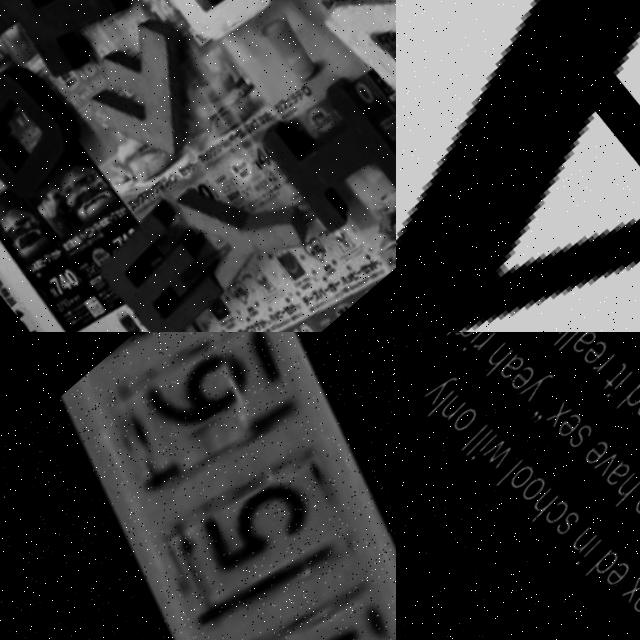1: (242, 599, 391, 640)
5: (181, 449, 341, 607)
6: (115, 332, 279, 482)
A: (396, 0, 640, 332)
F: (64, 10, 233, 187)
I: (255, 67, 396, 256)
M: (97, 204, 241, 332)
O: (0, 51, 104, 215)
Q: (134, 0, 302, 62)
T: (0, 0, 150, 94)
Y: (160, 136, 332, 318)
Z: (299, 0, 396, 130)
